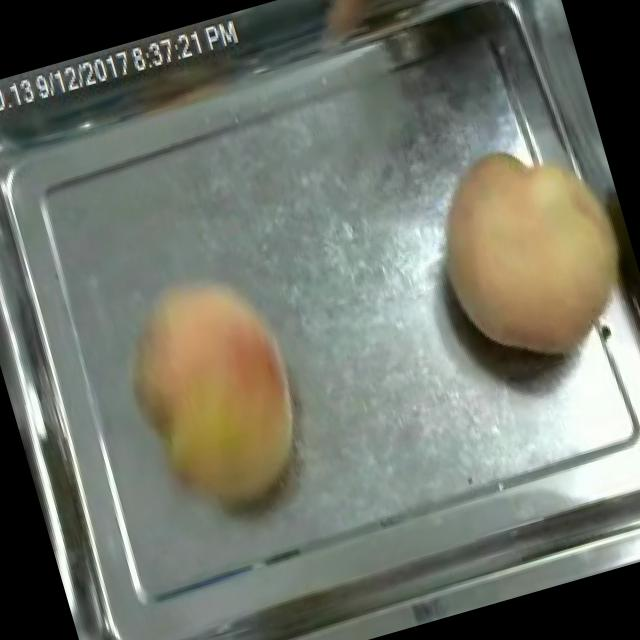Fruit: (94, 251, 333, 538), (406, 110, 640, 390)
